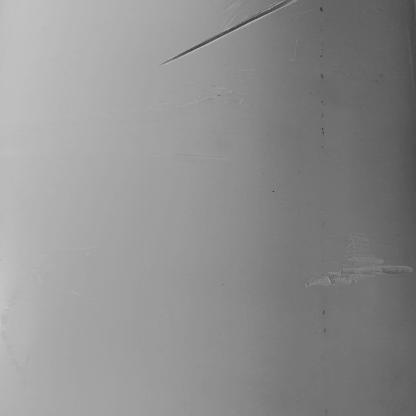sunshang: (159, 1, 294, 66), (299, 231, 416, 290)
